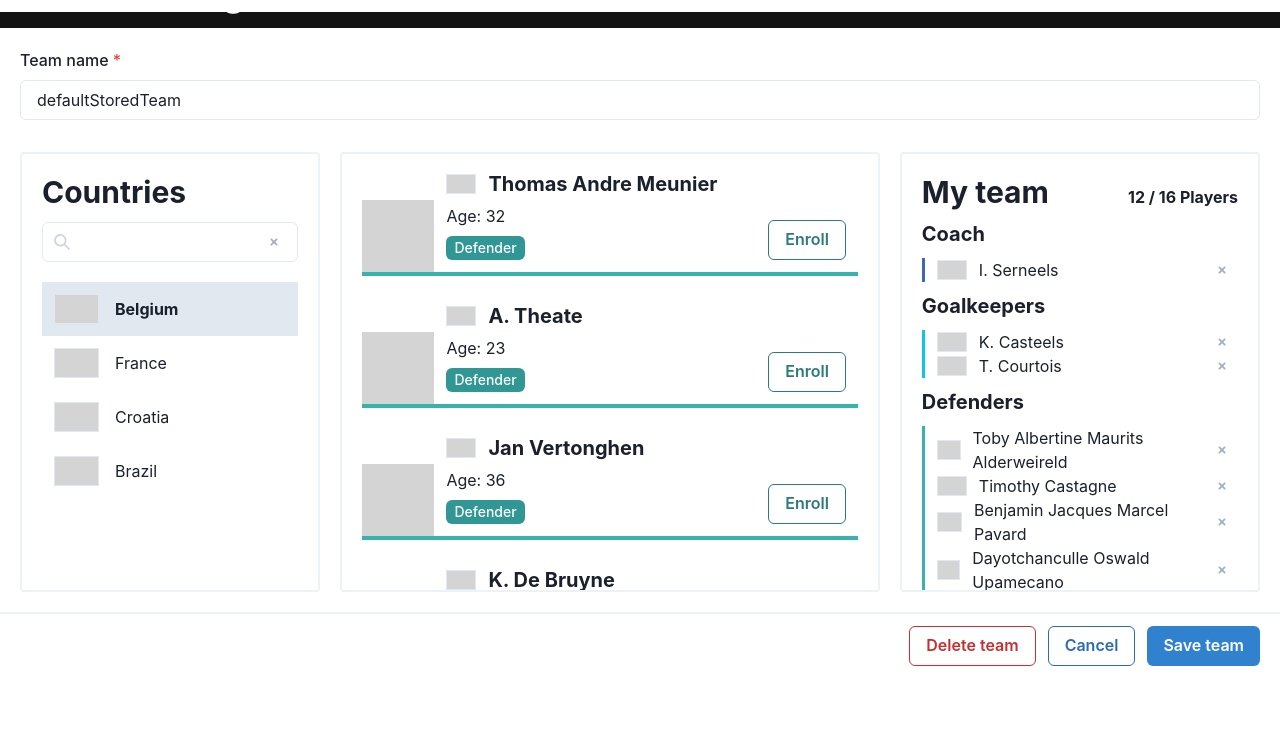
Test: <ManagerPlayersList /> › given the default scenario is stored › given the max limit of players per country has been reached, when adding player should display error message
(page scrolled)
What coordinates should you click on to do the following:
click the button named "Enroll A. Theate."
I would click on:
 (807, 372)
Its box is [768, 352, 846, 392].
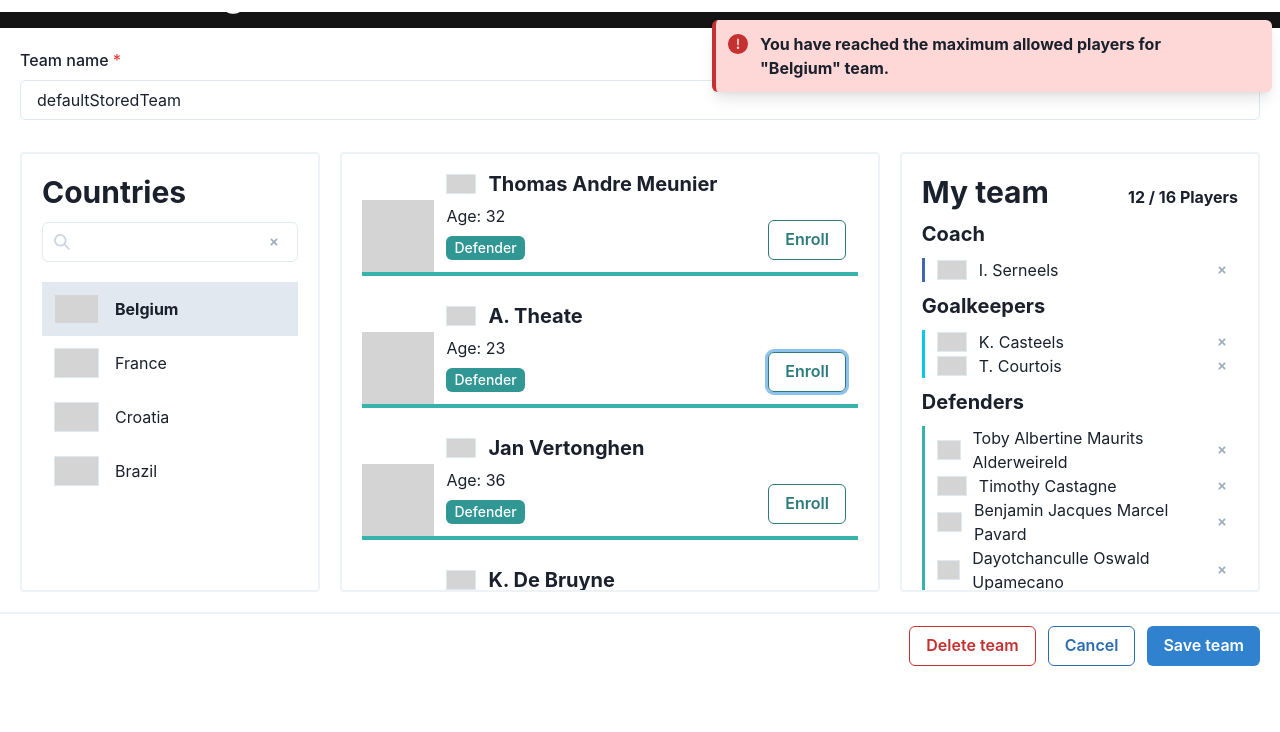
expect the text "You have reached the maximum allowed players for \"Belgium\" team." is shown: met, box [760, 34, 1161, 78]
